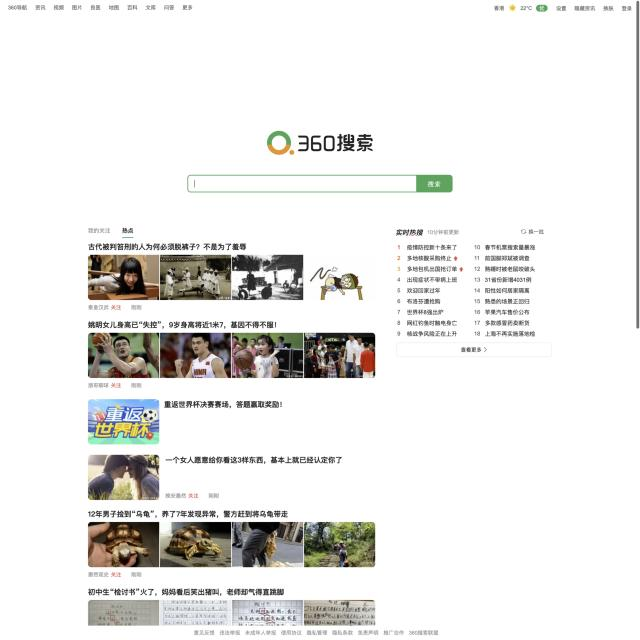footer: (0, 627, 640, 639)
input: (187, 175, 453, 192)
logo: (259, 124, 375, 162)
navigation: (4, 1, 200, 20), (491, 2, 635, 15)
